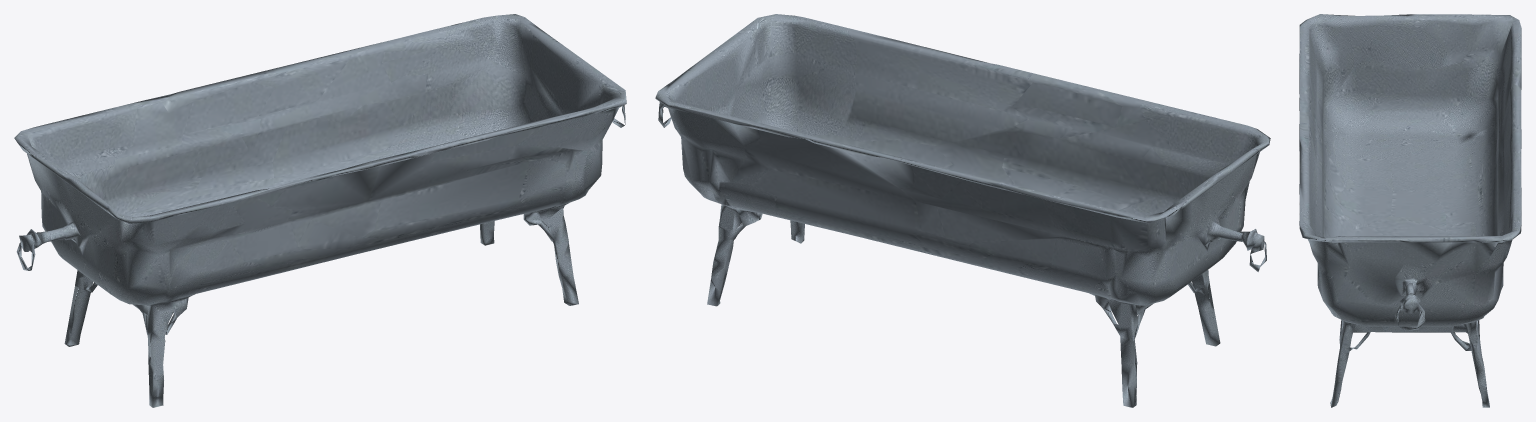
The model's file is water-trough-lite.glb.
3 views of the same model, side by side, from view 1: azimuth 30°, elevation 25°; view 2: azimuth 150°, elevation 25°; view 3: azimuth 270°, elevation 25° (orthographic). The views are drawn at different scales.
Size of the model in its own units: 1.9 by 0.6327 by 0.6776.
Materials: 1 (1 with a texture image).
